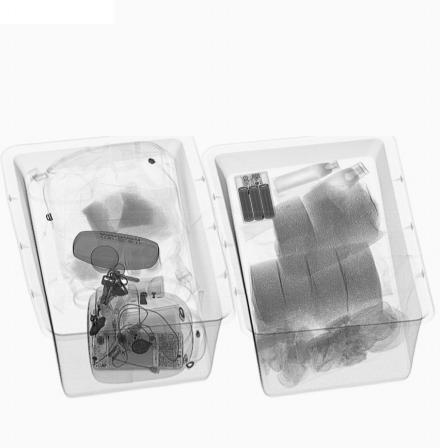Powerbank: (233, 169, 278, 226)
